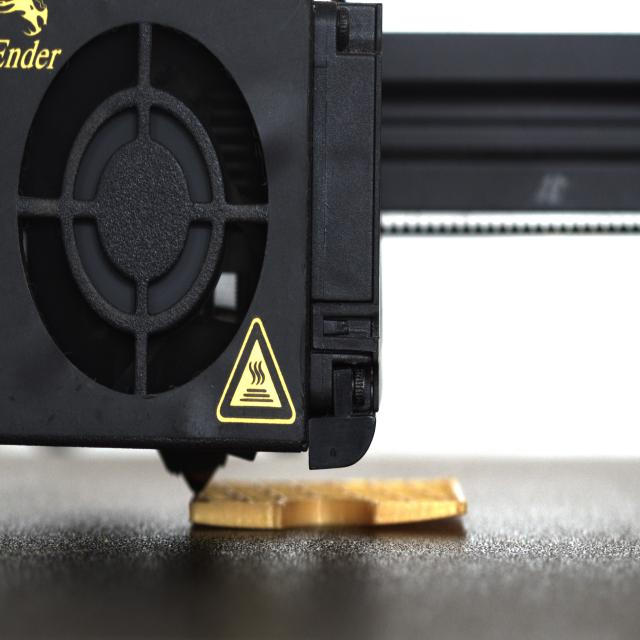Without deffect: (8, 17, 280, 412)
